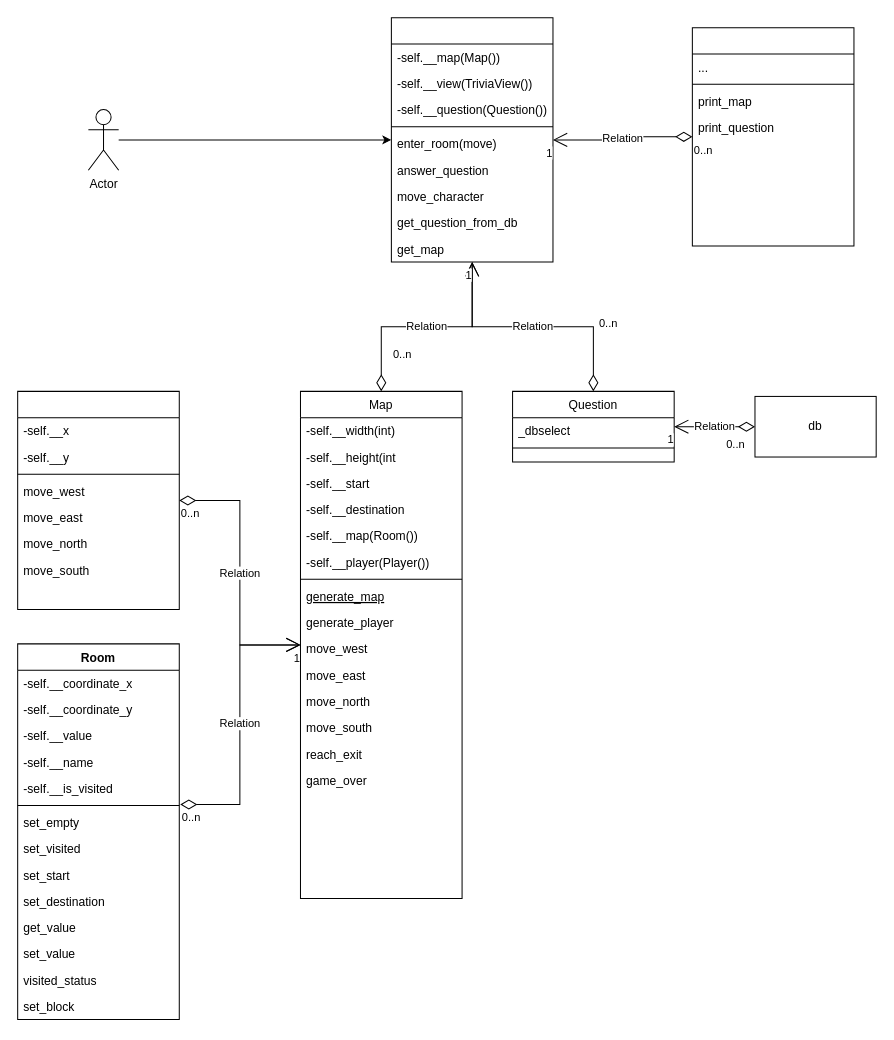
This 894x1040 diagram has some shape labels left out. The shapes that lost their labels are listed below. From the top down, each one's box as (x1, y1, x2, y2) in pixels, then its label:
(390, 17, 553, 262): TriviaController
(691, 27, 854, 246): TriviaView
(17, 390, 179, 610): Player
